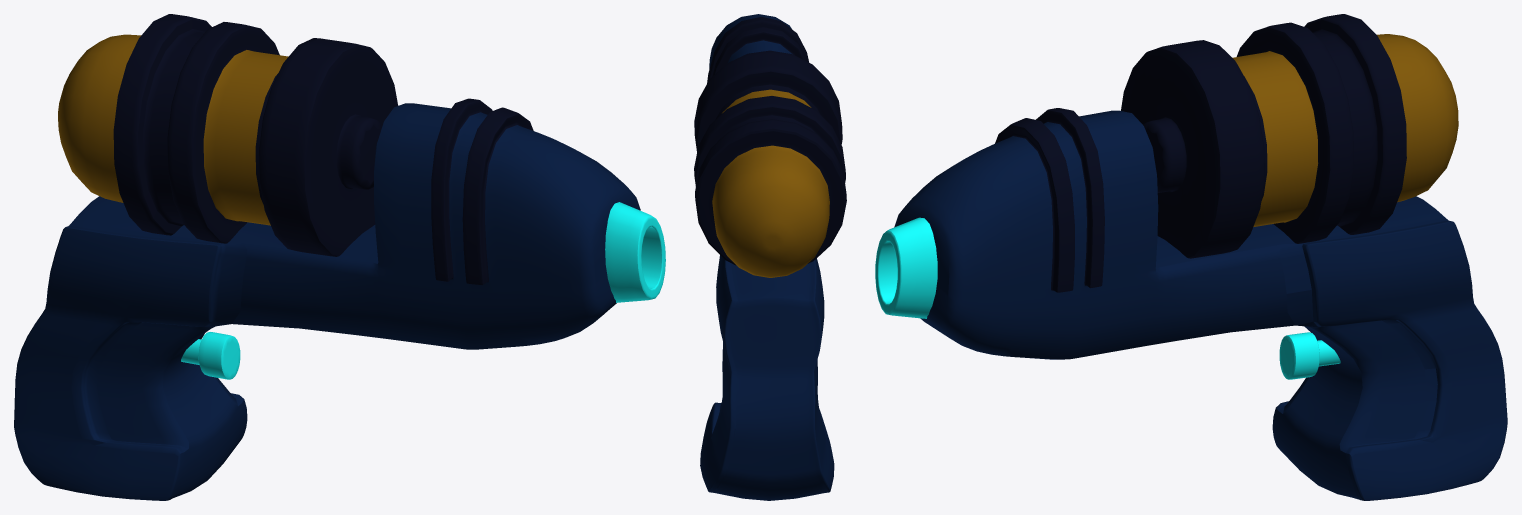
3 renders of one model, left to right at view 1: azimuth 30°, elevation 25°; view 2: azimuth 150°, elevation 25°; view 3: azimuth 270°, elevation 25°, orthographic. The views are drawn at different scales.
Visible parts, largest first — view 1: 377, water_load, gun_barrel, trigger; view 2: water_load, 377; view 3: 377, water_load, gun_barrel, trigger.
Boxes of the visible parts, x1,y1,x2,y2 form: 377: [14, 98, 640, 500]; water_load: [58, 14, 398, 256]; gun_barrel: [605, 202, 665, 302]; trigger: [181, 332, 240, 379]; water_load: [694, 50, 846, 277]; 377: [700, 14, 834, 500]; 377: [894, 108, 1507, 500]; water_load: [1121, 14, 1458, 258]; gun_barrel: [875, 217, 937, 318]; trigger: [1279, 332, 1340, 379].
Bounding box in the file's own units: 33.07 × 46.47 × 38.61.
